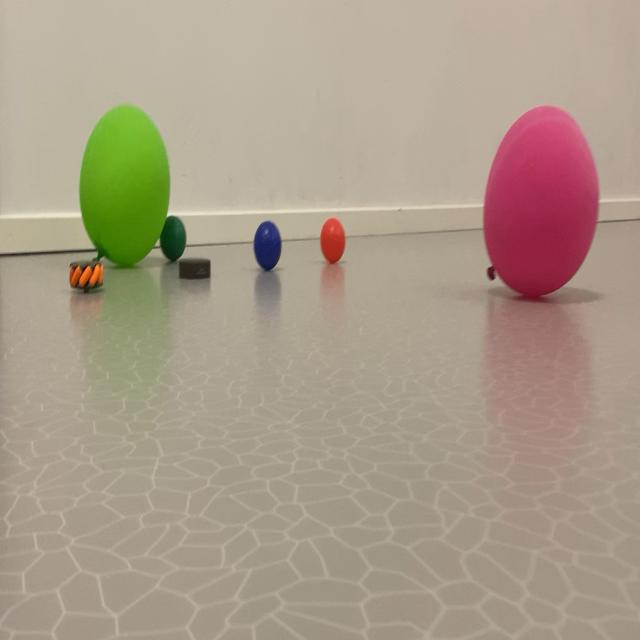6: (238, 179, 374, 280)
7: (305, 150, 352, 280)
green ball: (242, 142, 287, 284)
red ball: (157, 204, 188, 262)
